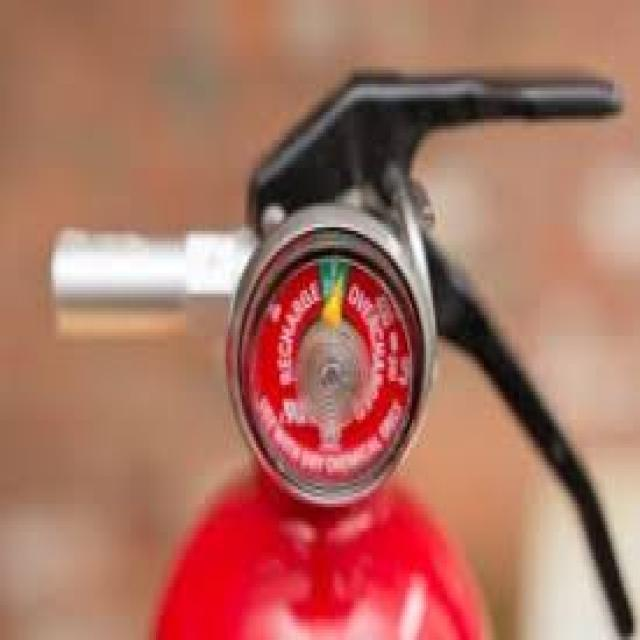pressure gauge: (242, 258, 416, 487)
